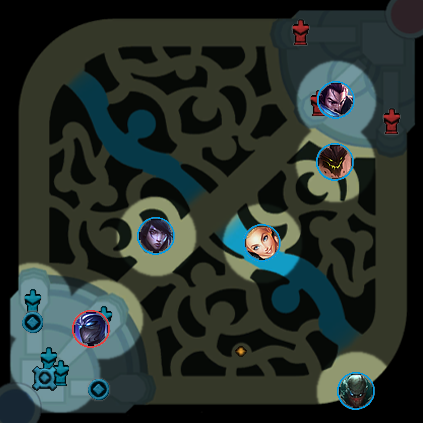Aphelios: (137, 217, 175, 255)
Lux: (243, 224, 281, 262)
Malphite: (316, 143, 354, 181)
Pyke: (337, 372, 375, 410)
Shen: (72, 310, 110, 348)
Yasuo: (317, 81, 355, 119)
